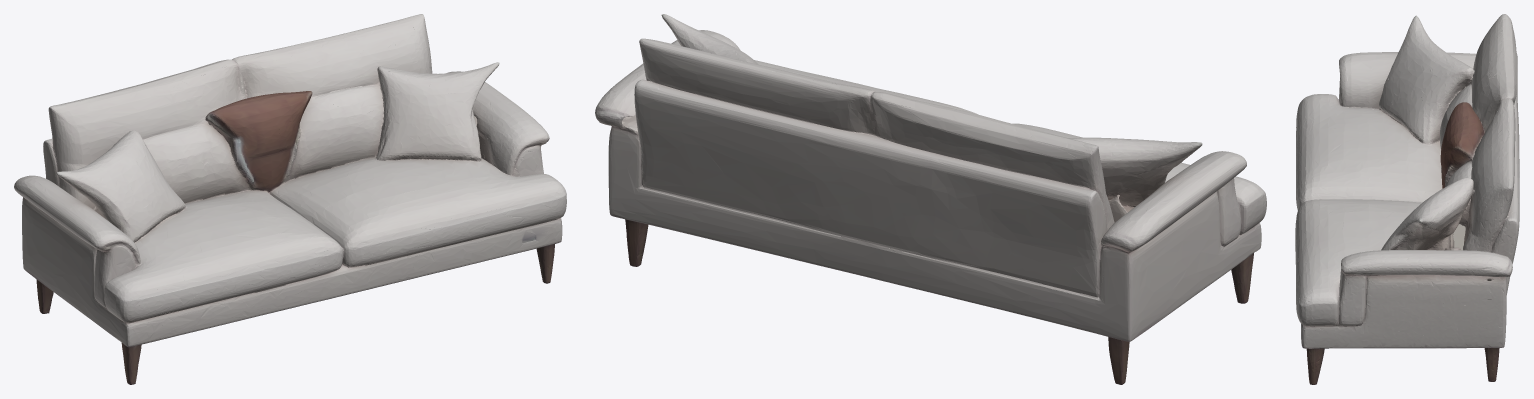
File: armania-sofa-OPTIMISED.glb
3 views of the same model, side by side, from view 1: azimuth 30°, elevation 25°; view 2: azimuth 150°, elevation 25°; view 3: azimuth 270°, elevation 25° (orthographic). The views are drawn at different scales.
Visible parts, largest first — view 1: geometry_0; view 2: geometry_0; view 3: geometry_0.
Part boxes in pixels (left/top/right/bottom): geometry_0: left=14, top=14, right=566, bottom=384; geometry_0: left=595, top=14, right=1266, bottom=384; geometry_0: left=1295, top=14, right=1519, bottom=384.
Bounding box in the file's own units: 1 × 0.4169 × 0.448.
